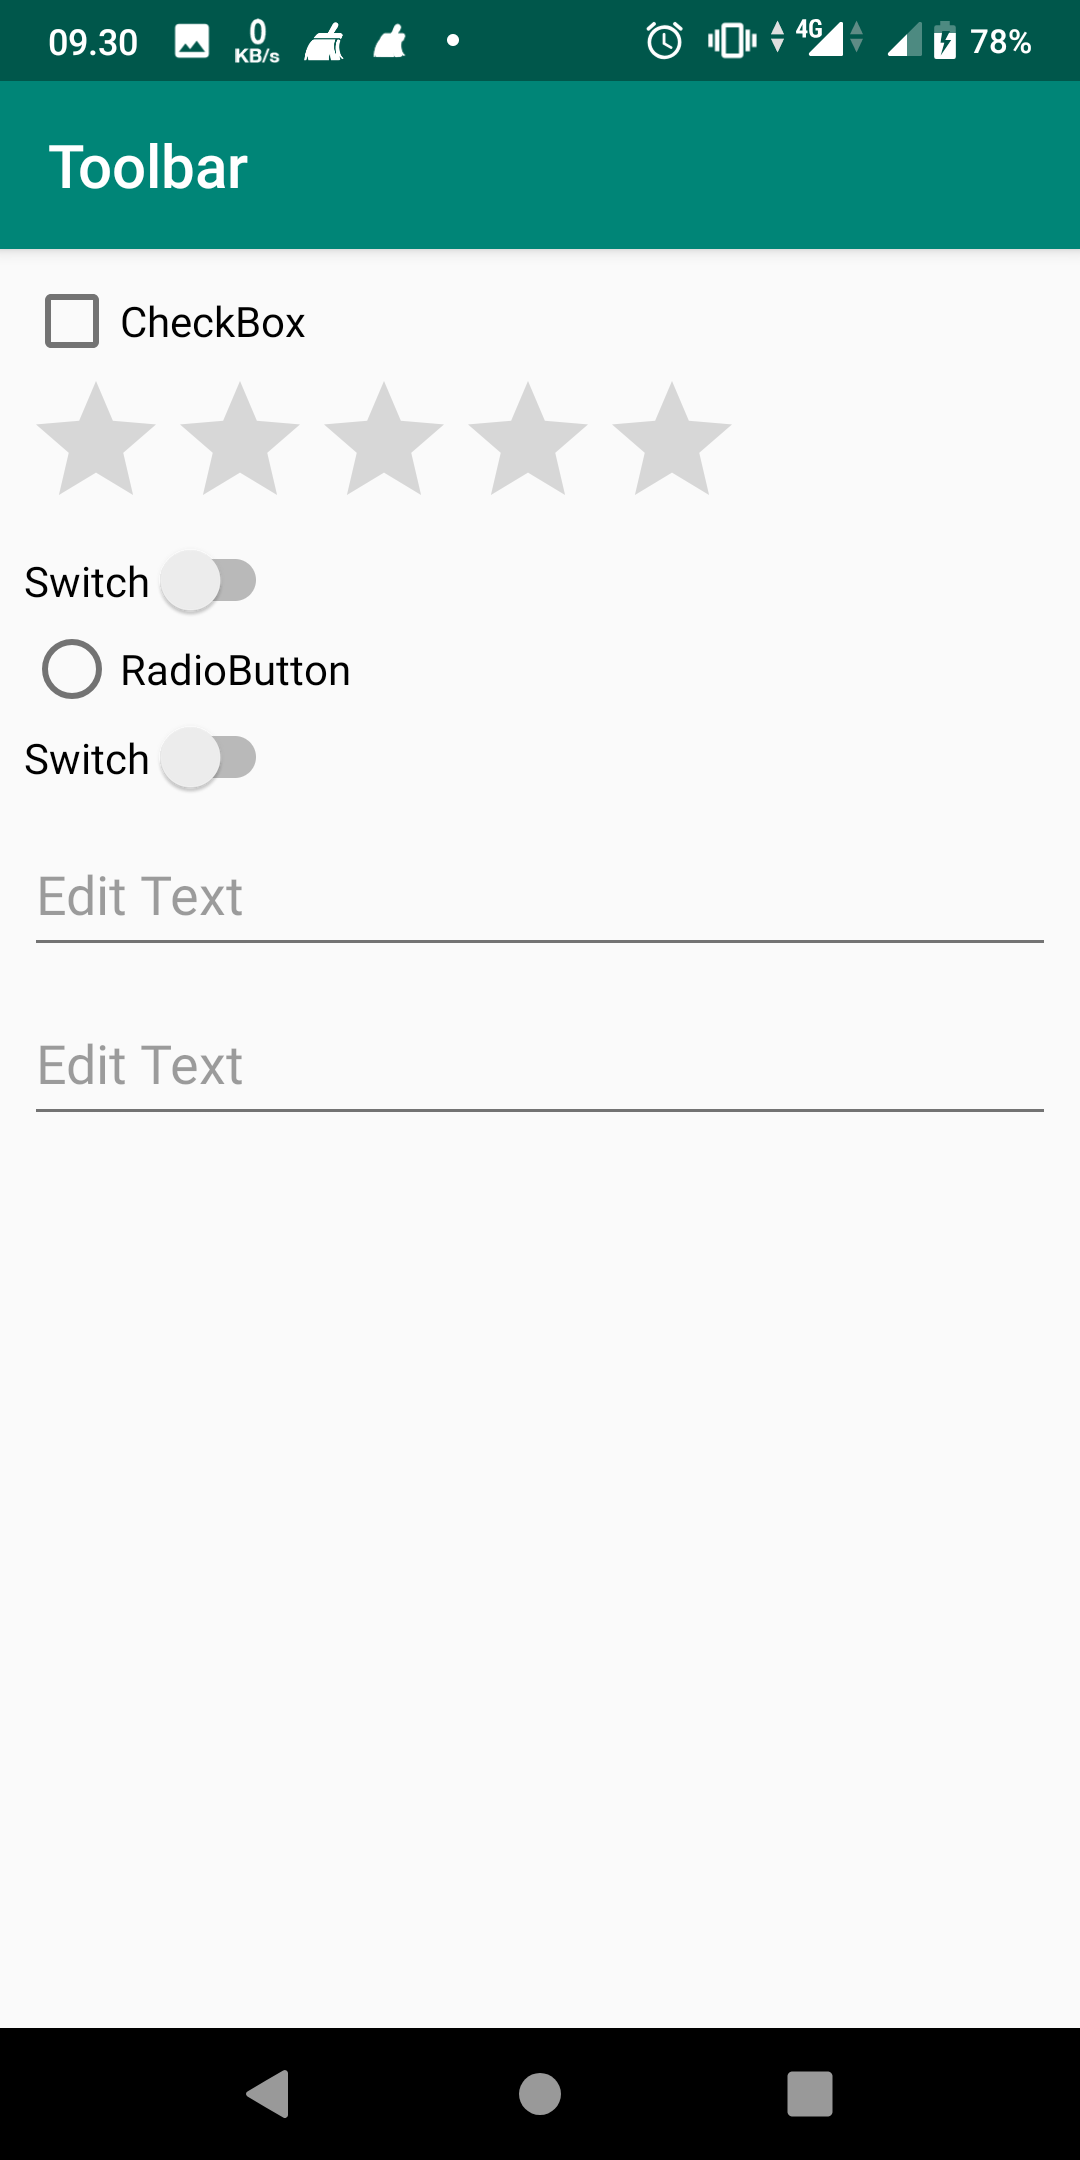checkBox: (39, 282, 315, 357)
editText: (25, 861, 1061, 967), (28, 1035, 1061, 1131)
radioButton: (32, 628, 364, 709)
ratingBar: (28, 377, 741, 506)
switch: (10, 551, 299, 614), (15, 731, 287, 789)
toolbar: (3, 80, 1080, 249)
